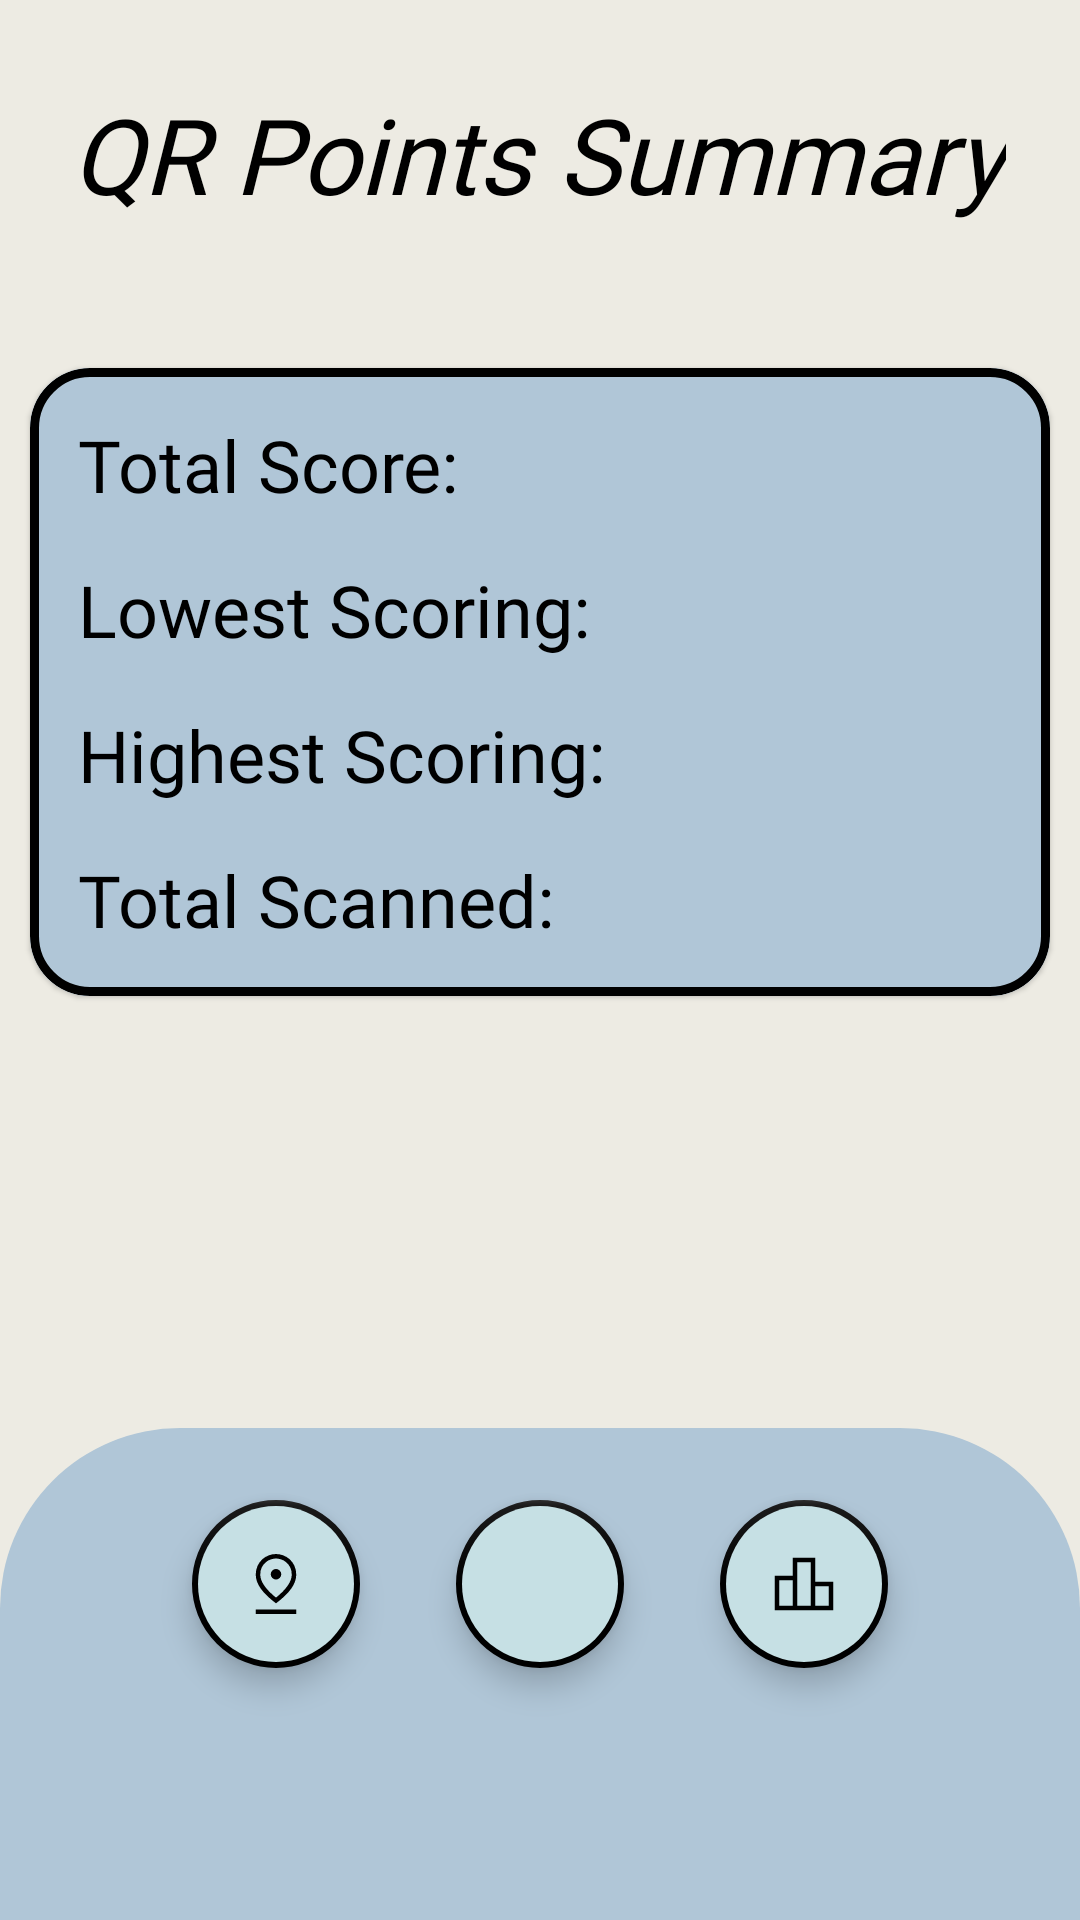

Screen size 1080×1920. Icon name, then its box in pixels as (x1, y1, x2, y2):
leaderboard: (720, 1500, 888, 1668)
map: (192, 1500, 360, 1668)
